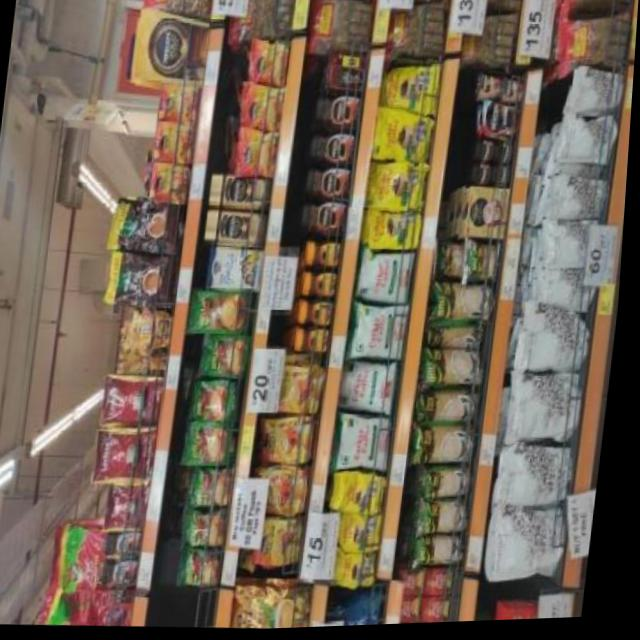Coffee: (269, 365, 331, 418), (258, 466, 317, 518), (264, 415, 324, 466), (260, 519, 312, 570), (207, 209, 272, 246), (212, 175, 277, 209), (238, 132, 281, 177), (302, 202, 350, 240), (314, 95, 363, 132), (243, 87, 285, 130), (248, 42, 292, 83), (306, 168, 354, 201), (311, 134, 359, 167), (482, 105, 522, 140), (108, 557, 148, 587), (110, 531, 150, 560), (300, 328, 336, 358), (309, 242, 345, 270), (307, 272, 343, 300), (304, 302, 339, 327), (472, 165, 495, 188), (497, 142, 517, 166), (475, 143, 497, 162), (494, 168, 514, 188)
